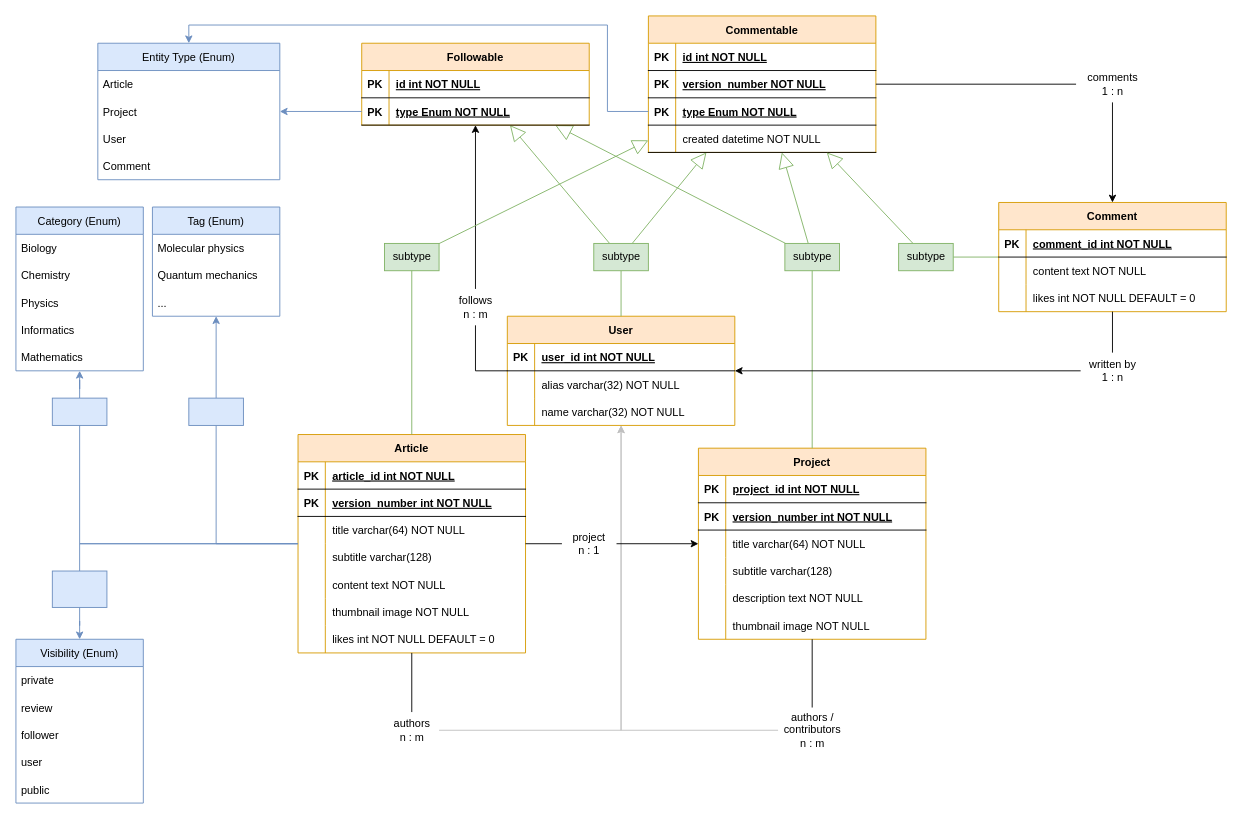
Some shapes in this 1242 by 819 pixel diagram are drawn without their labels. The shapes that lost their labels are listed below. From the top down, each one's centre as x and y in pixels, then its label:
the point at 79,411: categories n : m
the point at 215,411: tags n : m
the point at 79,588: visibility 1 : n
